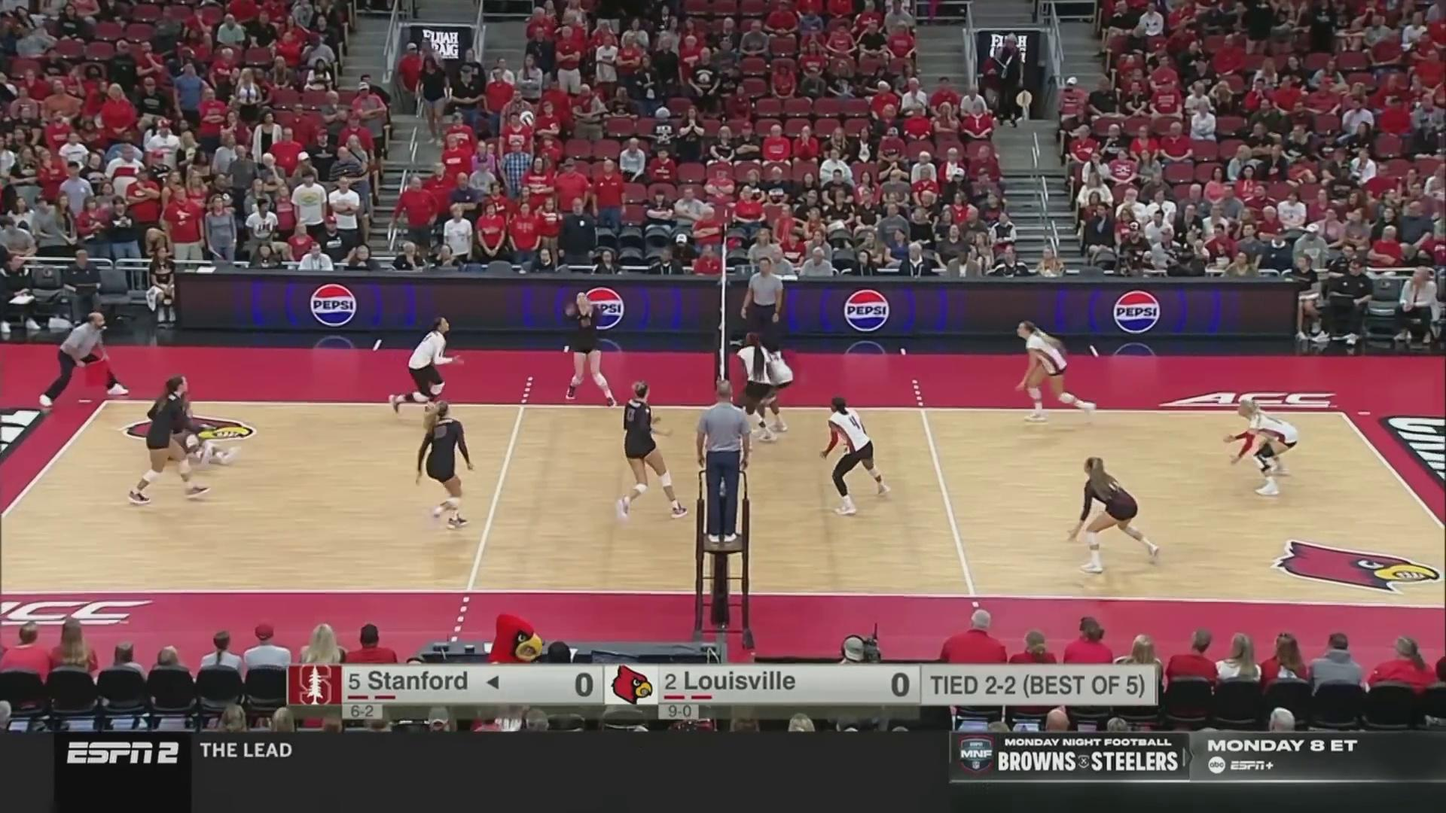player: (124, 376, 218, 506), (1072, 459, 1165, 574), (616, 382, 679, 521), (820, 398, 894, 515), (1013, 324, 1096, 421), (419, 402, 479, 529), (157, 384, 241, 467), (1227, 406, 1300, 497), (563, 293, 620, 406), (401, 320, 465, 415), (750, 330, 794, 436), (736, 330, 776, 442)
refree: (41, 311, 127, 405), (698, 390, 751, 538), (740, 258, 786, 387)
